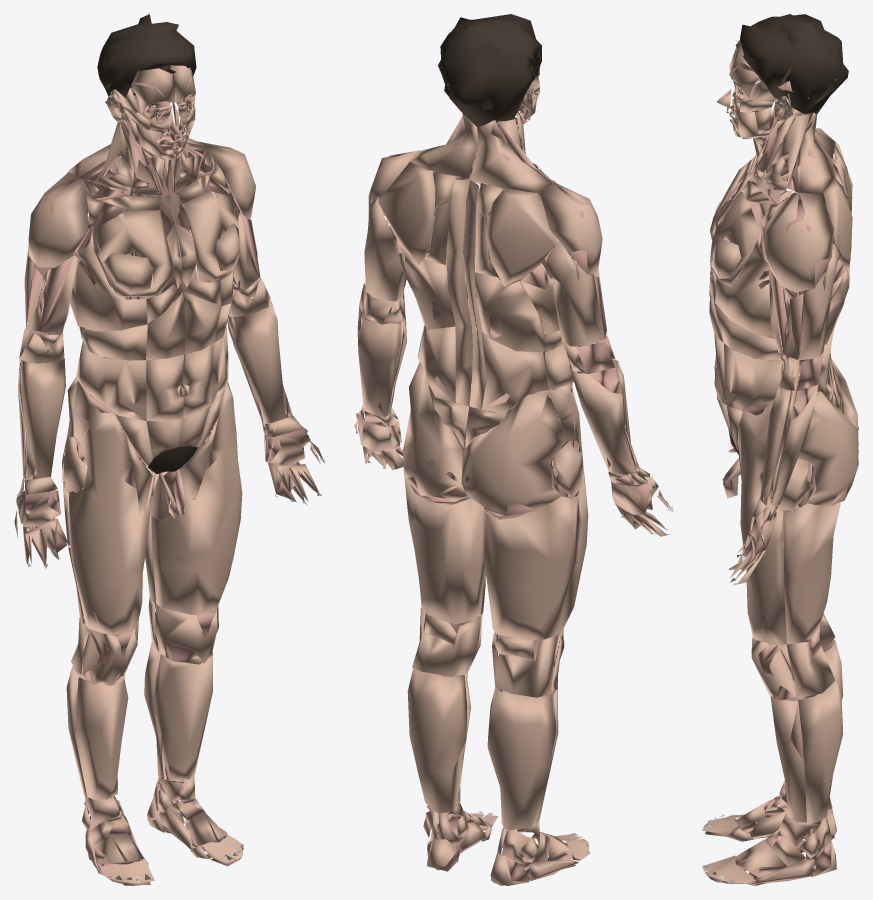
File: adult_male.surface.LOD4.glb
3 renders of one model, left to right at view 1: azimuth 30°, elevation 25°; view 2: azimuth 150°, elevation 25°; view 3: azimuth 270°, elevation 25°, orthographic. The views are drawn at different scales.
Parts seen in each view (by area): view 1: ADULT.MALE.SURFACE.ANTERIOR_REGION_OF_THIGH.R, ADULT.MALE.SURFACE.ANTERIOR_REGION_OF_THIGH.L, ADULT.MALE.SURFACE.ANTERIOR_REGION_OF_LEG.L, ADULT.MALE.SURFACE.ANTERIOR_REGION_OF_LEG.R, ADULT.MALE.SURFACE.HAIRS_OF_HEAD, ADULT.MALE.SURFACE.PECTORAL_REGION.R, ADULT.MALE.SURFACE.DELTOID_REGION.R, ADULT.MALE.SURFACE.ANTERIOR_REGION_OF_FOREARM.L, ADULT.MALE.SURFACE.ANTERIOR_REGION_OF_FOREARM.R, ADULT.MALE.SURFACE.LATERAL_REGION_OF_THORAX.R, ADULT.MALE.SURFACE.LATERAL_REGION_OF_ABDOMEN.R, ADULT.MALE.SURFACE.PECTORAL_REGION.L (+51 smaller); view 2: ADULT.MALE.SURFACE.POSTERIOR_REGION_OF_THIGH.R, ADULT.MALE.SURFACE.GLUTEAL_REGION.R, ADULT.MALE.SURFACE.HAIRS_OF_HEAD, ADULT.MALE.SURFACE.POSTERIOR_REGION_OF_THIGH.L, ADULT.MALE.SURFACE.POSTERIOR_REGION_OF_LEG.R, ADULT.MALE.SURFACE.POSTERIOR_REGION_OF_LEG.L, ADULT.MALE.SURFACE.GLUTEAL_REGION.L, ADULT.MALE.SURFACE.SCAPULAR_REGION.R, ADULT.MALE.SURFACE.INFRASCAPULAR_REGION.R, ADULT.MALE.SURFACE.POSTERIOR_REGION_OF_FOREARM.R, ADULT.MALE.SURFACE.POSTERIOR_REGION_OF_ARM.R, ADULT.MALE.SURFACE.VERTEBRAL_REGION.L (+29 smaller); view 3: ADULT.MALE.SURFACE.HAIRS_OF_HEAD, ADULT.MALE.SURFACE.ANTERIOR_REGION_OF_THIGH.L, ADULT.MALE.SURFACE.POSTERIOR_REGION_OF_THIGH.L, ADULT.MALE.SURFACE.DELTOID_REGION.L, ADULT.MALE.SURFACE.GLUTEAL_REGION.L, ADULT.MALE.SURFACE.POSTERIOR_REGION_OF_LEG.L, ADULT.MALE.SURFACE.LATERAL_REGION_OF_THORAX.L, ADULT.MALE.SURFACE.ANTERIOR_REGION_OF_LEG.L, ADULT.MALE.SURFACE.LATERAL_REGION_OF_ABDOMEN.L, ADULT.MALE.SURFACE.POSTERIOR_REGION_OF_ARM.L, ADULT.MALE.SURFACE.PECTORAL_REGION.L, ADULT.MALE.SURFACE.POSTERIOR_REGION_OF_NECK.L (+44 smaller).
Part boxes in pixels (box(x1,y1,x2,y2)): ADULT.MALE.SURFACE.ANTERIOR_REGION_OF_THIGH.R: box(68, 381, 155, 635); ADULT.MALE.SURFACE.ANTERIOR_REGION_OF_THIGH.L: box(151, 347, 242, 614); ADULT.MALE.SURFACE.ANTERIOR_REGION_OF_LEG.L: box(153, 654, 212, 780); ADULT.MALE.SURFACE.ANTERIOR_REGION_OF_LEG.R: box(75, 672, 128, 799); ADULT.MALE.SURFACE.HAIRS_OF_HEAD: box(97, 14, 196, 104); ADULT.MALE.SURFACE.PECTORAL_REGION.R: box(92, 203, 174, 296); ADULT.MALE.SURFACE.DELTOID_REGION.R: box(28, 172, 87, 267); ADULT.MALE.SURFACE.ANTERIOR_REGION_OF_FOREARM.L: box(228, 301, 292, 422); ADULT.MALE.SURFACE.ANTERIOR_REGION_OF_FOREARM.R: box(22, 358, 65, 480); ADULT.MALE.SURFACE.LATERAL_REGION_OF_THORAX.R: box(70, 224, 147, 331); ADULT.MALE.SURFACE.LATERAL_REGION_OF_ABDOMEN.R: box(76, 340, 146, 420); ADULT.MALE.SURFACE.PECTORAL_REGION.L: box(184, 177, 240, 282); ADULT.MALE.SURFACE.POSTERIOR_REGION_OF_THIGH.R: box(483, 495, 578, 639); ADULT.MALE.SURFACE.GLUTEAL_REGION.R: box(462, 392, 565, 516); ADULT.MALE.SURFACE.HAIRS_OF_HEAD: box(438, 14, 541, 127); ADULT.MALE.SURFACE.POSTERIOR_REGION_OF_THIGH.L: box(403, 459, 484, 623); ADULT.MALE.SURFACE.POSTERIOR_REGION_OF_LEG.R: box(487, 687, 554, 830); ADULT.MALE.SURFACE.POSTERIOR_REGION_OF_LEG.L: box(407, 668, 467, 813); ADULT.MALE.SURFACE.GLUTEAL_REGION.L: box(403, 362, 468, 501); ADULT.MALE.SURFACE.SCAPULAR_REGION.R: box(485, 189, 557, 286); ADULT.MALE.SURFACE.INFRASCAPULAR_REGION.R: box(475, 272, 544, 352); ADULT.MALE.SURFACE.POSTERIOR_REGION_OF_FOREARM.R: box(569, 365, 636, 474); ADULT.MALE.SURFACE.POSTERIOR_REGION_OF_ARM.R: box(545, 241, 605, 346); ADULT.MALE.SURFACE.VERTEBRAL_REGION.L: box(446, 179, 472, 406); ADULT.MALE.SURFACE.HAIRS_OF_HEAD: box(735, 14, 848, 114); ADULT.MALE.SURFACE.ANTERIOR_REGION_OF_THIGH.L: box(738, 402, 794, 644); ADULT.MALE.SURFACE.POSTERIOR_REGION_OF_THIGH.L: box(783, 488, 840, 644); ADULT.MALE.SURFACE.DELTOID_REGION.L: box(762, 193, 834, 292); ADULT.MALE.SURFACE.GLUTEAL_REGION.L: box(798, 391, 858, 506); ADULT.MALE.SURFACE.POSTERIOR_REGION_OF_LEG.L: box(798, 677, 843, 822); ADULT.MALE.SURFACE.LATERAL_REGION_OF_THORAX.L: box(715, 227, 846, 337); ADULT.MALE.SURFACE.ANTERIOR_REGION_OF_LEG.L: box(770, 680, 806, 822); ADULT.MALE.SURFACE.LATERAL_REGION_OF_ABDOMEN.L: box(724, 344, 799, 410); ADULT.MALE.SURFACE.POSTERIOR_REGION_OF_ARM.L: box(798, 243, 839, 360); ADULT.MALE.SURFACE.PECTORAL_REGION.L: box(710, 191, 769, 287); ADULT.MALE.SURFACE.POSTERIOR_REGION_OF_NECK.L: box(787, 112, 835, 193).
Bounding box in the file's own units: 0.6798 × 1.73 × 0.2931.
